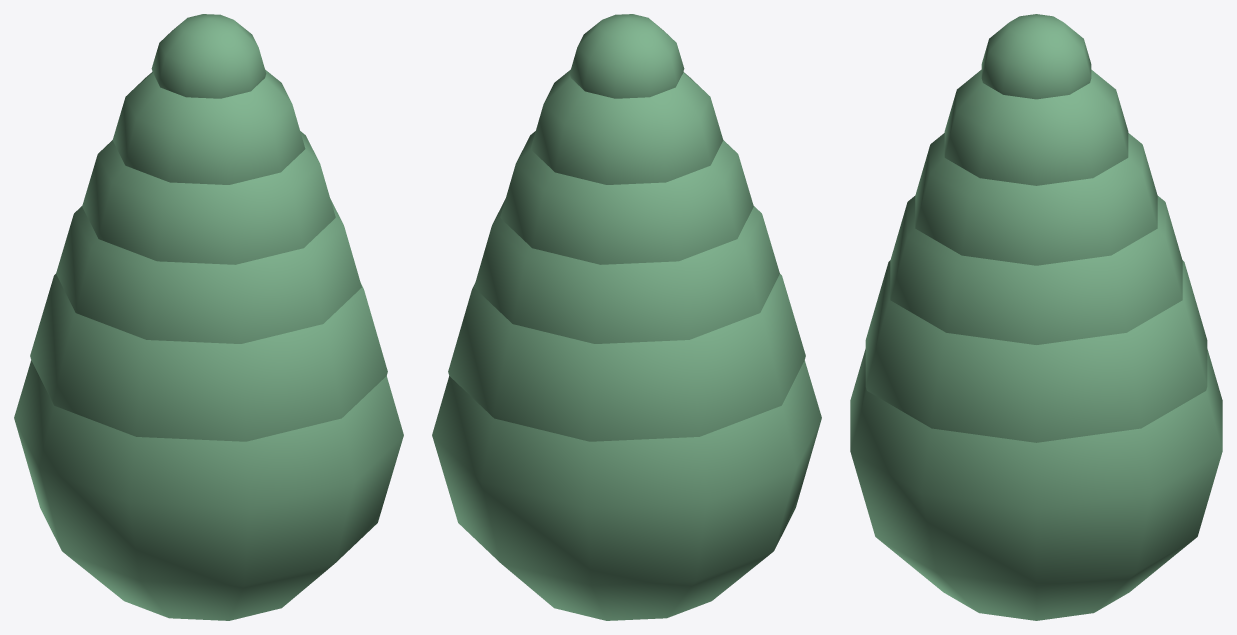
The model's file is tree_conifer.glb.
3 views of the same model, side by side, from view 1: azimuth 30°, elevation 25°; view 2: azimuth 150°, elevation 25°; view 3: azimuth 270°, elevation 25° (orthographic).
Parts seen in each view (by area): view 1: PineNeedles; view 2: PineNeedles; view 3: PineNeedles.
Boxes of the visible parts, bbox=[...] form: PineNeedles: bbox=[14, 14, 403, 620]; PineNeedles: bbox=[432, 14, 821, 620]; PineNeedles: bbox=[850, 14, 1222, 620].
Size of the model in its own units: 17 by 28 by 16.17.
